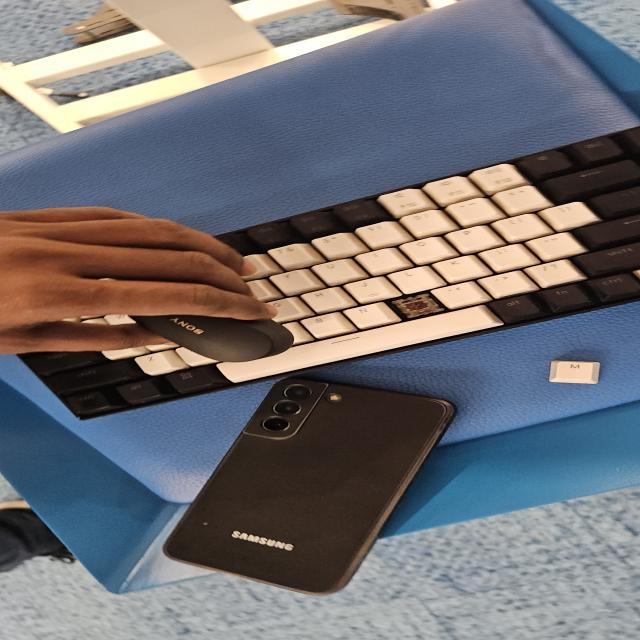C: (399, 299, 431, 316), (399, 299, 427, 317), (400, 299, 438, 312)
